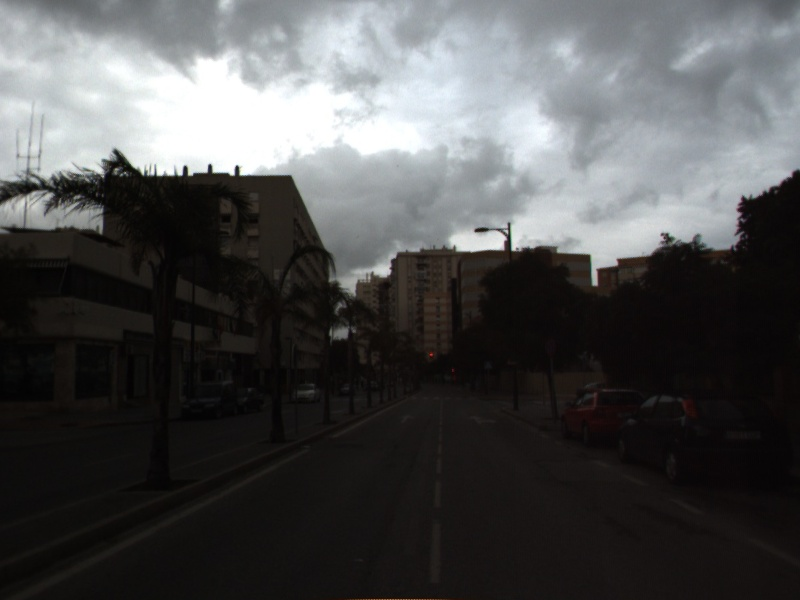STRAIGHT: (397, 412, 417, 425)
STRAIGHT_RIGHT: (468, 413, 499, 426)
